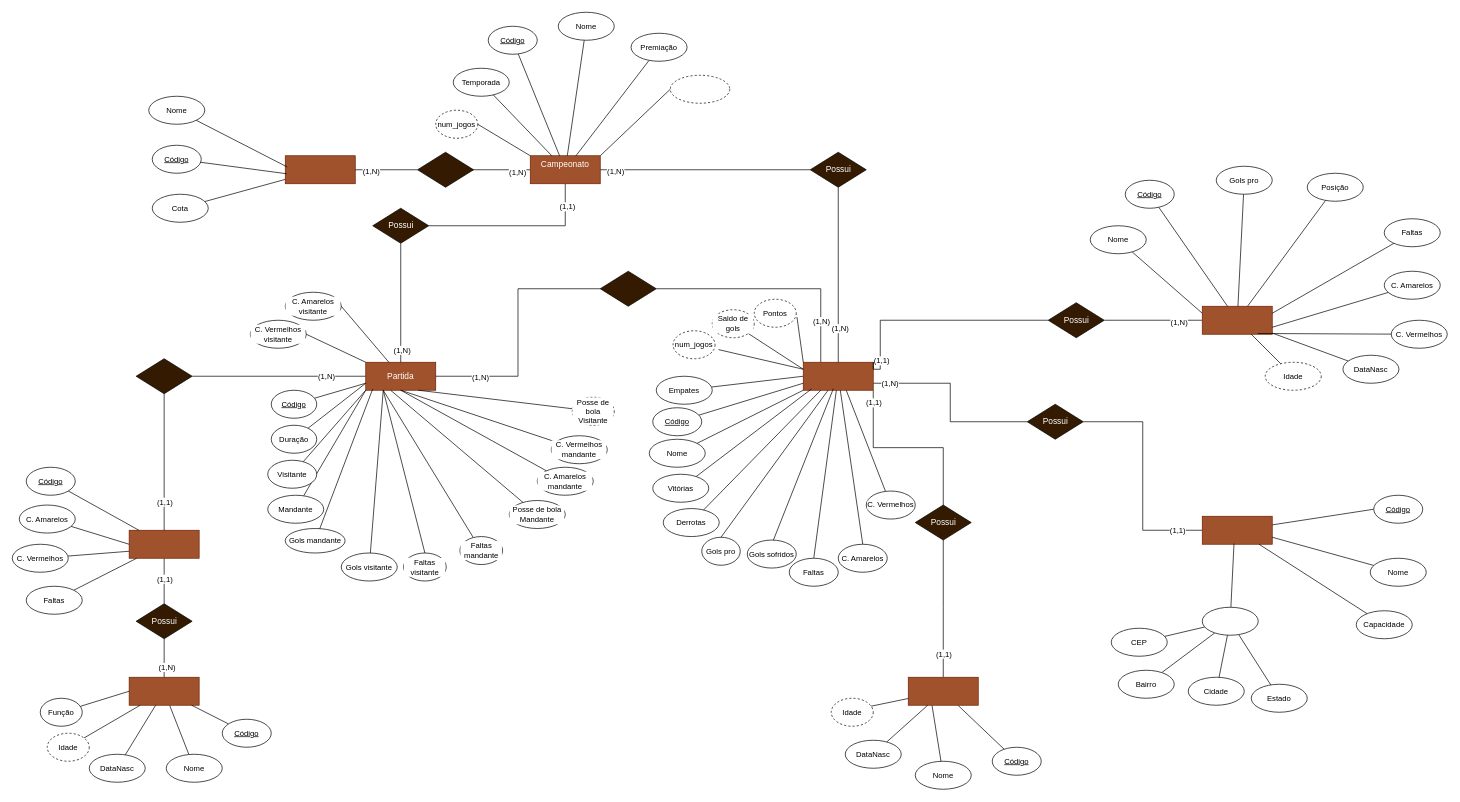
This 1460x802 diagram has some shape labels left out. The centre of each missing label's shape, as x and y in pixels:
Apita: point (163, 376)
Classificação: point (700, 89)
Endereço: point (1230, 621)
Estádio: point (1237, 530)
Joga: point (628, 288)
Jogador: point (1237, 320)
Patrocina: point (445, 169)
Patrocinador: point (320, 169)
Time: point (838, 376)
Time de Arbitragem: point (163, 544)
Técnico: point (943, 691)
Árbitro: point (163, 691)
